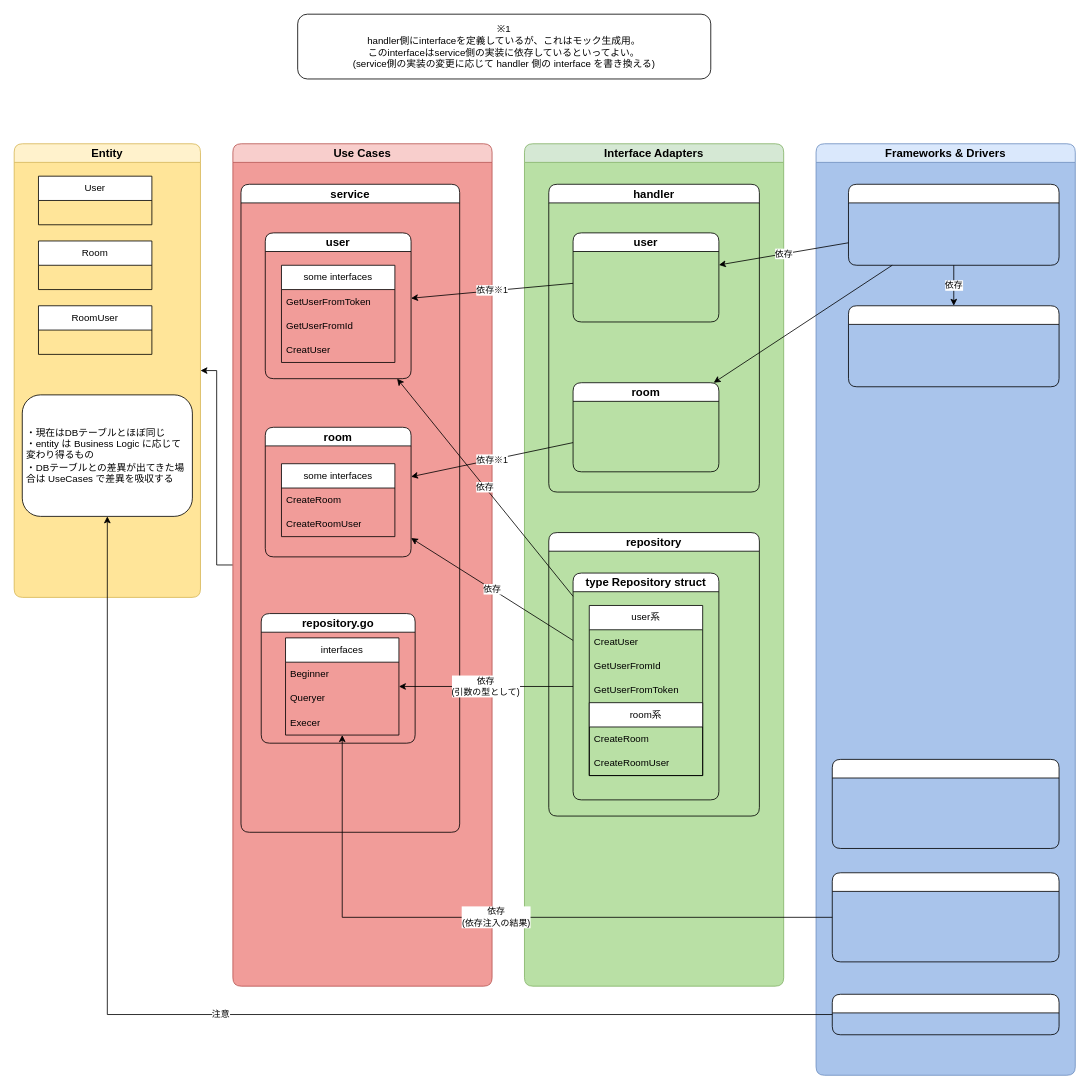
This 1089x1089 diagram has some shape labels left out. The shapes that lost their labels are listed below. From the top down, each one's centre as x and y in pixels, then its label:
point (953, 224): mux
point (953, 346): github.com/go-chi/chi
point (945, 803): github.com/go-sql-driver/mysql
point (945, 917): github.com/jmoiron/sqlx
point (945, 1014): schema.sql
